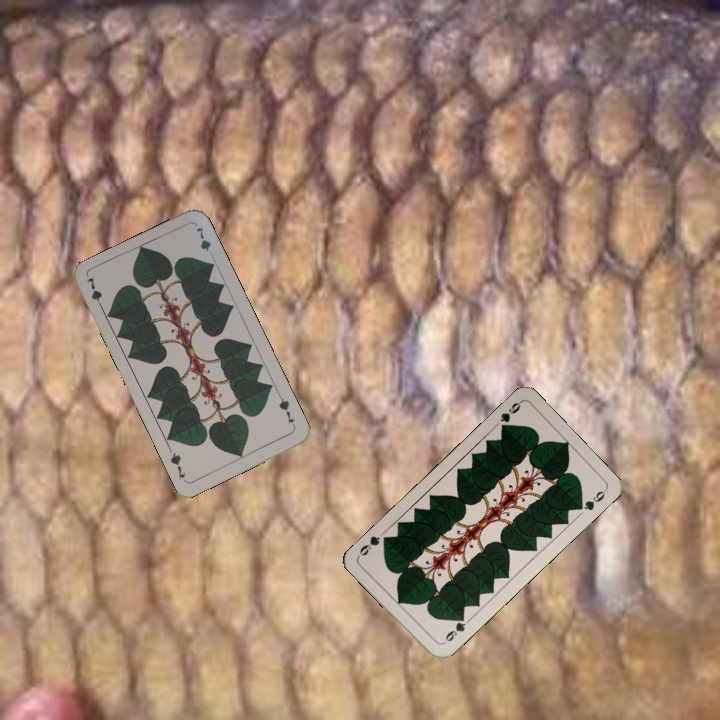G7: (82, 273, 106, 313), (274, 392, 298, 430)
G9: (438, 612, 468, 647), (496, 397, 524, 434)
